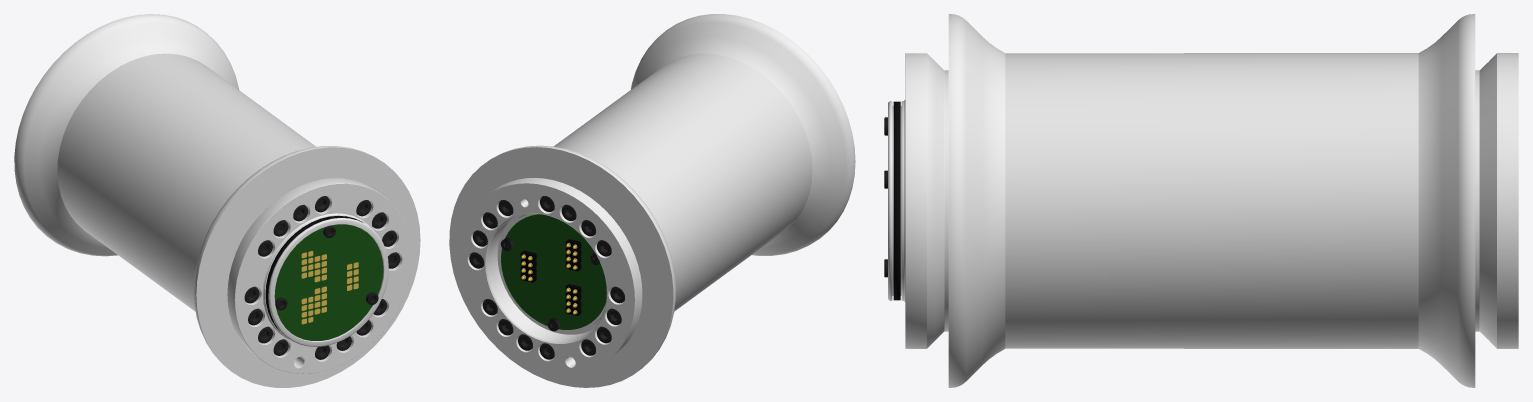
The picture shows the model from 3 angles, left to right: view 1: azimuth 30°, elevation 25°; view 2: azimuth 150°, elevation 25°; view 3: azimuth 270°, elevation 25°; orthographic projection. The views are drawn at different scales.
Visible parts, largest first — view 1: I86.001; view 2: I86.001; view 3: I86.001.
Part boxes in pixels (bbox=[...]): I86.001: bbox=[14, 14, 420, 387]; I86.001: bbox=[449, 14, 855, 387]; I86.001: bbox=[884, 14, 1518, 387].
Size of the model in its own units: 0.086 by 0.086 by 0.1458.
